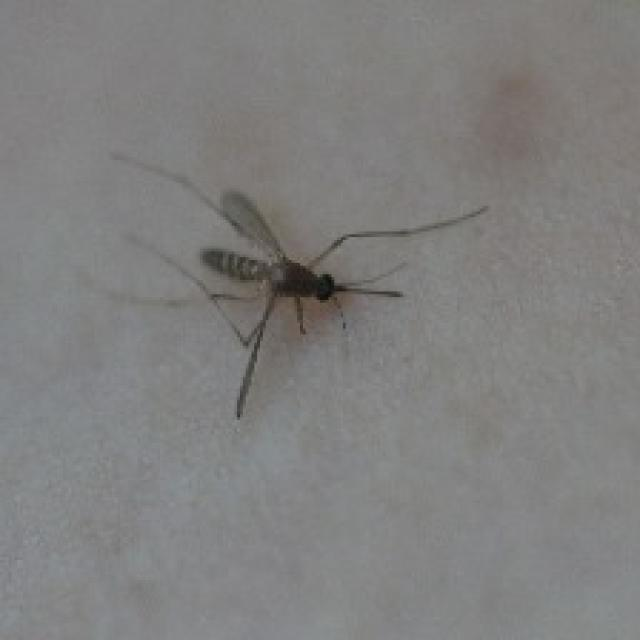culex: (103, 146, 488, 420)
